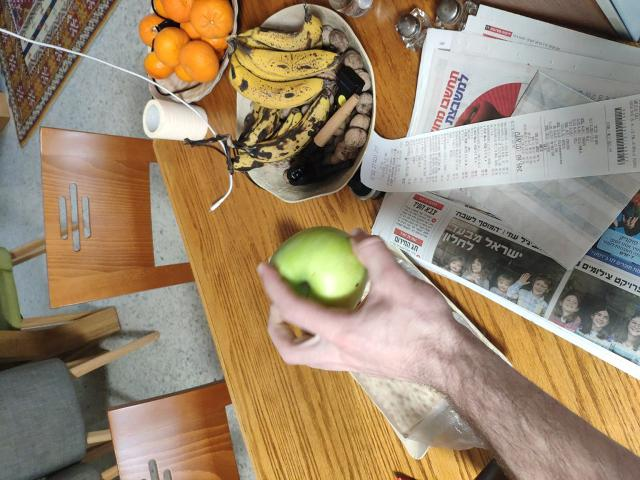apple: (259, 228, 378, 319)
